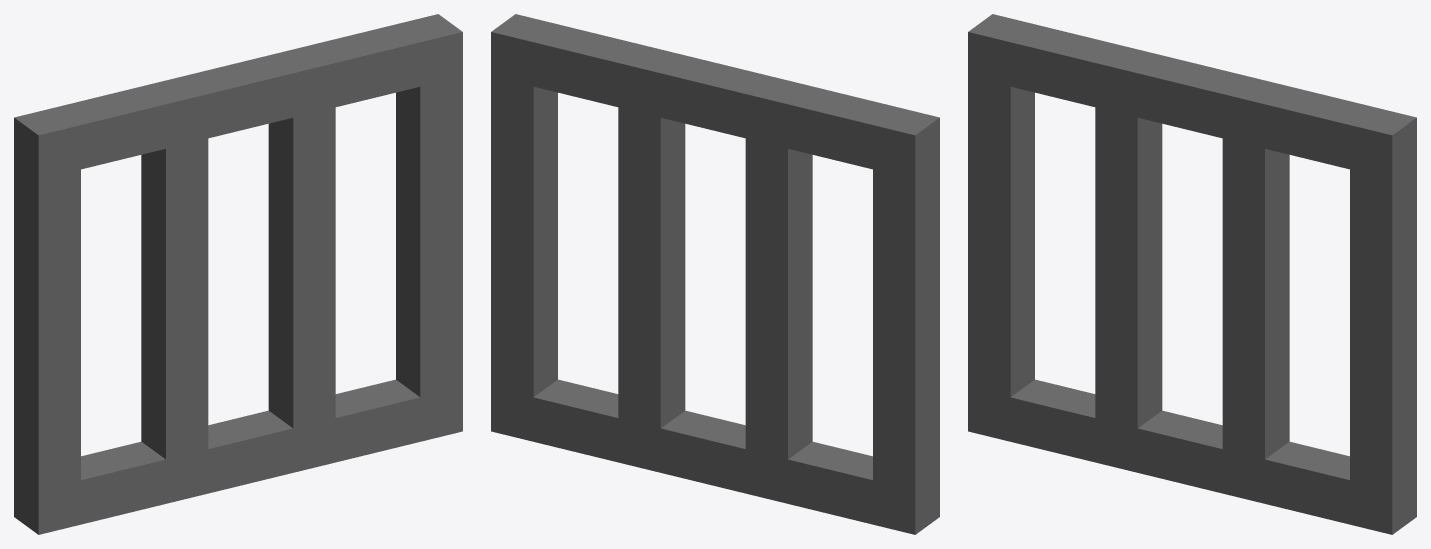
The model's file is lvl2-16.obj.
The picture shows the model from 3 angles, left to right: view 1: azimuth 30°, elevation 25°; view 2: azimuth 150°, elevation 25°; view 3: azimuth 330°, elevation 25°; orthographic projection.
Size of the model in its own units: 1 by 0.9 by 0.1.
Materials: 1 (1 with a texture image).
